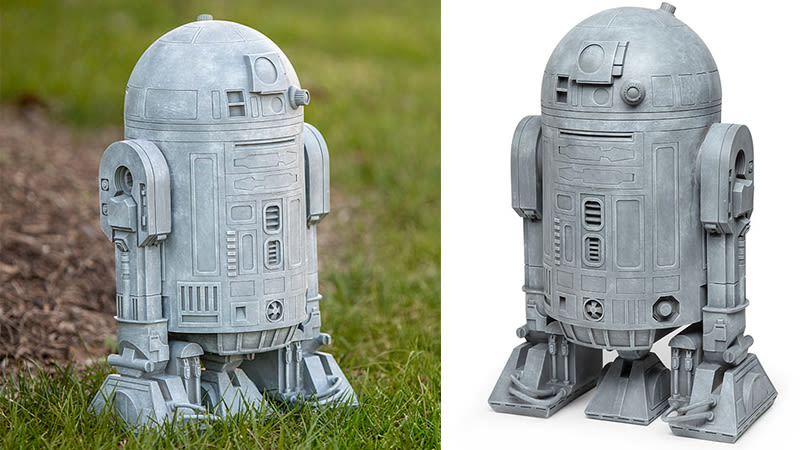r2d2: (494, 2, 777, 444), (92, 14, 356, 411)
